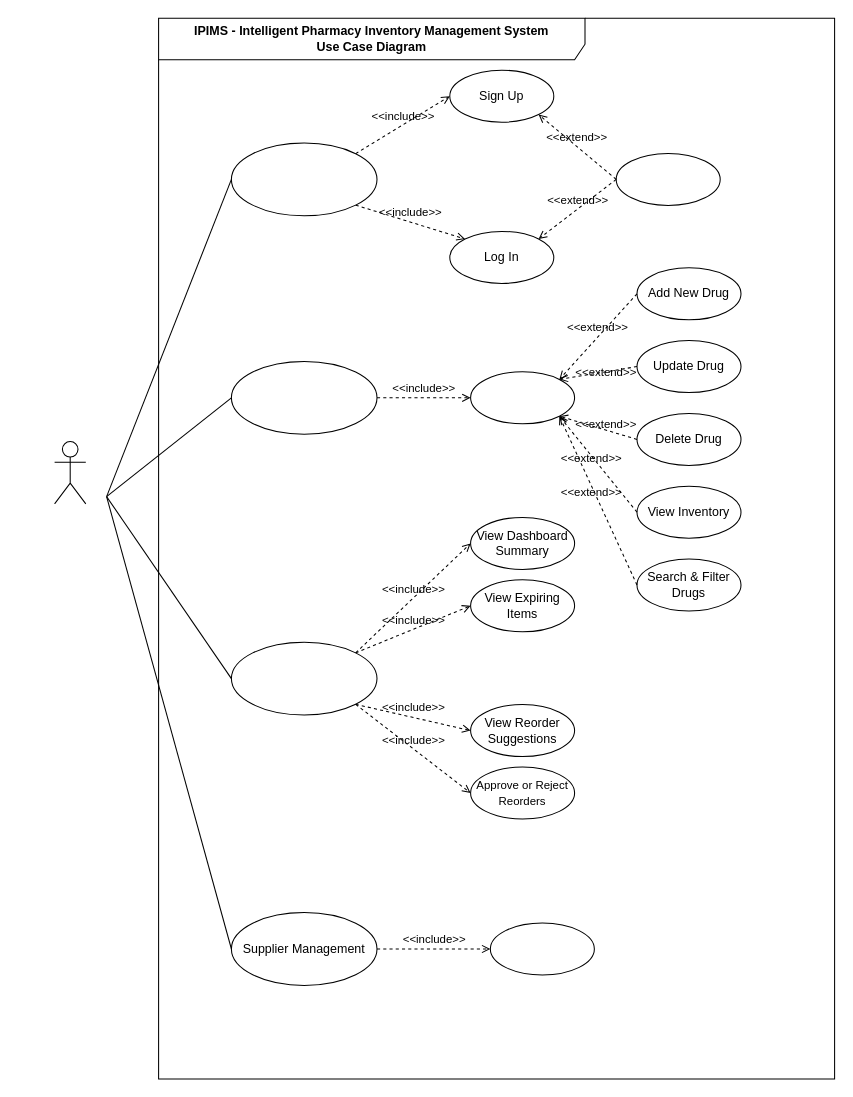
The diagram is 853 pixels wide and 1097 high, and some of its shapes have lost their labels. Each missing label, with the box of its shape:
Alert & Suggestions: (230, 641, 377, 715)
Authentication & Access: (230, 142, 377, 216)
Inventory & Stock Management: (230, 360, 377, 434)
Log Out: (615, 152, 720, 205)
Manage Drug Inventory: (470, 371, 575, 424)
Manage Suppliers: (489, 922, 594, 975)
Pharmacist / Inventory Manager: (54, 440, 86, 504)
